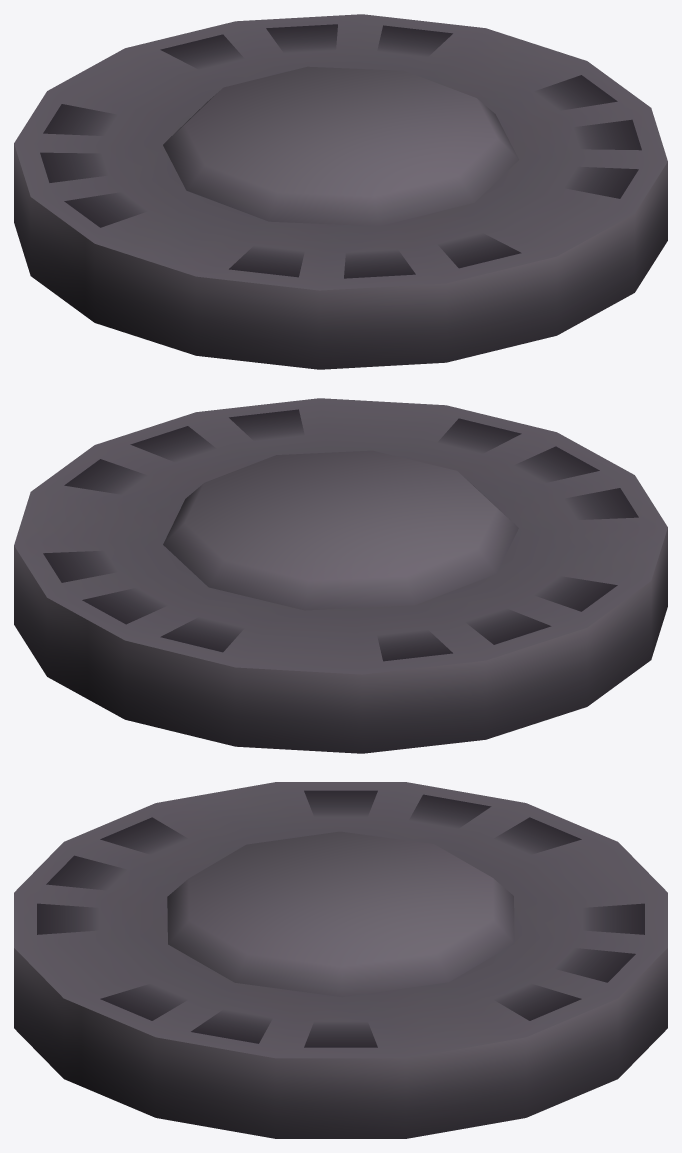
Rendered from Manhole_2B.fbx.
3 views of the same model, one above another, from view 1: azimuth 30°, elevation 25°; view 2: azimuth 150°, elevation 25°; view 3: azimuth 270°, elevation 25° (orthographic).
Visible parts, largest first — view 1: Manhole_2B; view 2: Manhole_2B; view 3: Manhole_2B.
Part boxes in pixels (left/top/right/bottom): Manhole_2B: left=14, top=14, right=667, bottom=369; Manhole_2B: left=14, top=398, right=667, bottom=753; Manhole_2B: left=14, top=782, right=667, bottom=1138.
Bounding box in the file's own units: 1.47 × 0.2525 × 1.47.
